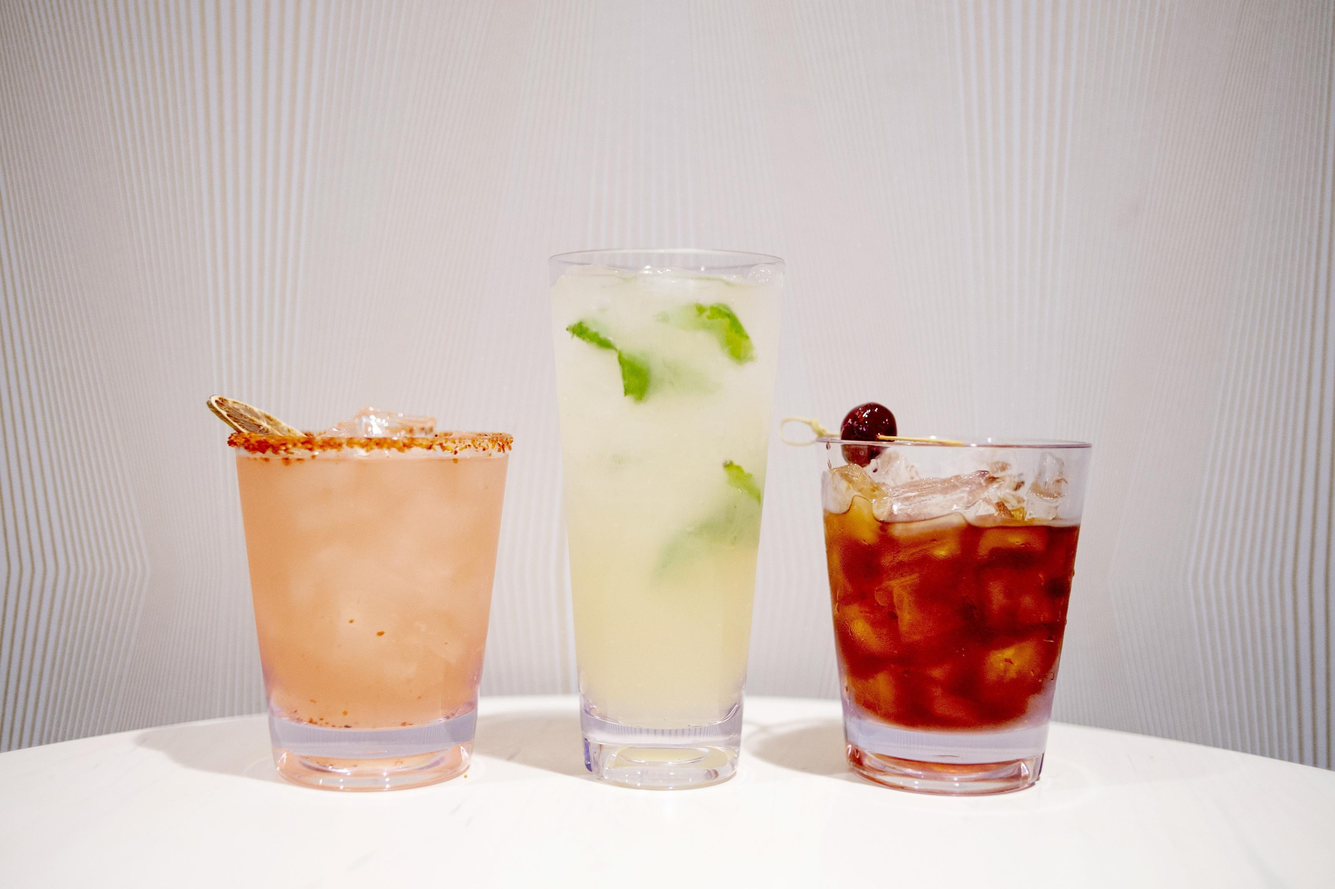glass-normal: (542, 245, 789, 794), (229, 416, 522, 790), (814, 431, 1100, 789)
